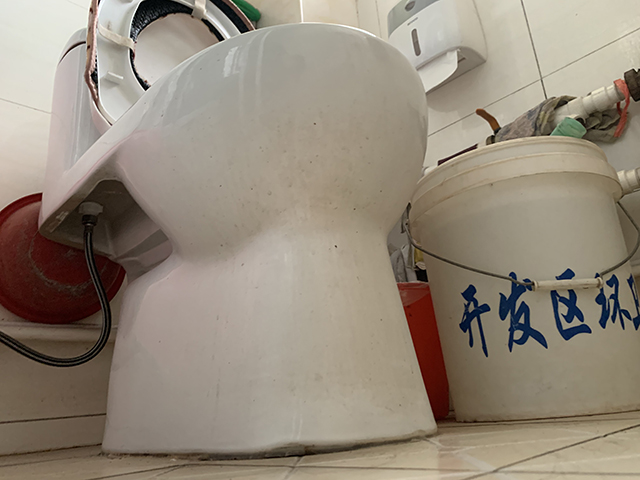closestool: (36, 1, 441, 457)
